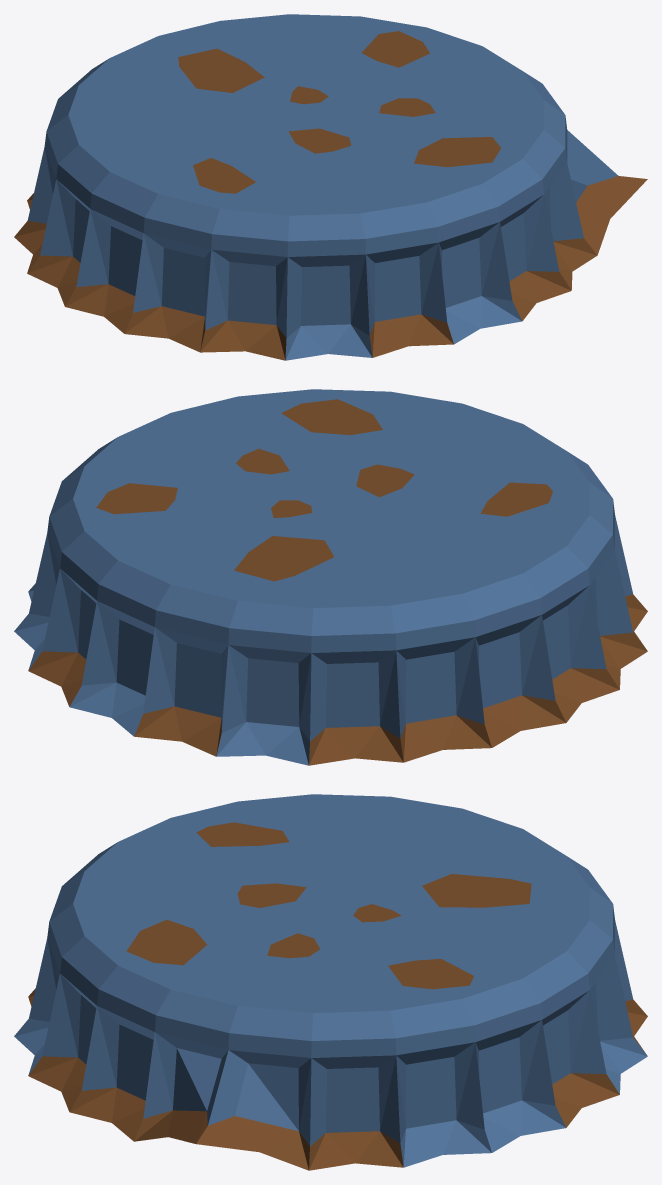
Rendered from bottle-cap-cd96db.glb.
3 views of the same model, one above another, from view 1: azimuth 30°, elevation 25°; view 2: azimuth 150°, elevation 25°; view 3: azimuth 270°, elevation 25° (orthographic). The views are drawn at different scales.
Parts seen in each view (by area): view 1: bottle-cap-mesh; view 2: bottle-cap-mesh; view 3: bottle-cap-mesh.
Part boxes in pixels (<box>): bottle-cap-mesh: <box>14,14,647,360</box>; bottle-cap-mesh: <box>14,389,647,765</box>; bottle-cap-mesh: <box>14,794,647,1170</box>.
Size of the model in its own units: 3.37 by 0.74 by 3.2.
